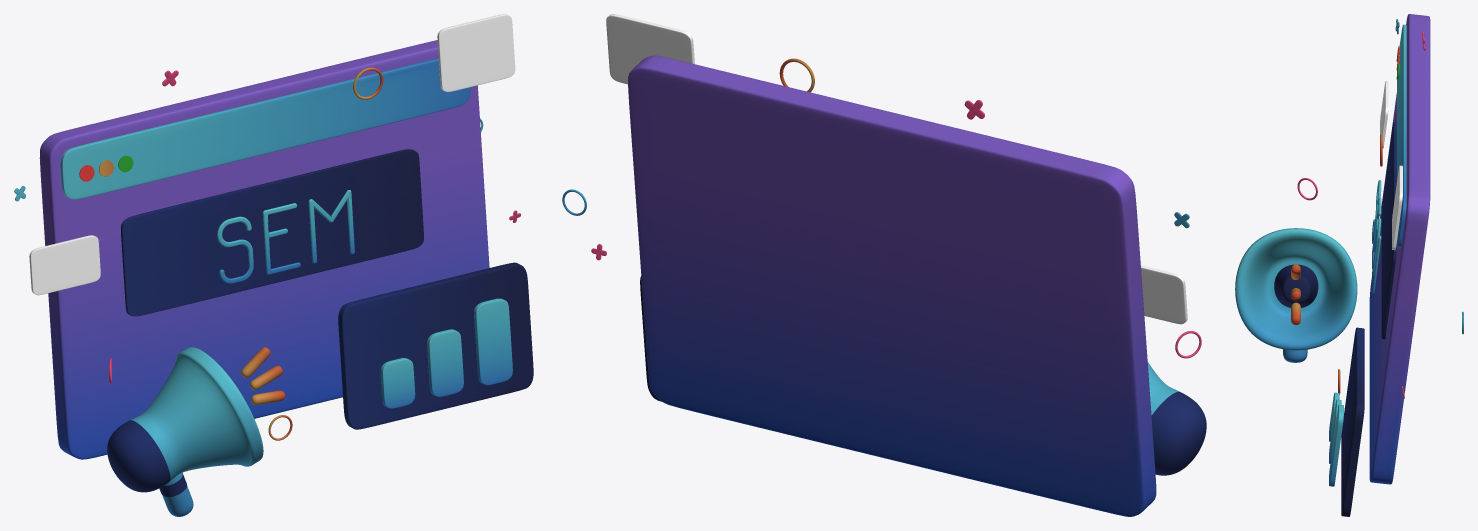
The model's file is sem-3d-animated-icon-81925645744.glb.
3 views of the same model, side by side, from view 1: azimuth 30°, elevation 25°; view 2: azimuth 150°, elevation 25°; view 3: azimuth 270°, elevation 25° (orthographic). The views are drawn at different scales.
Visible parts, largest first — view 1: Cube, Cube.002, Cube.001, Chart Bar Frame, Cube.015, Cube.005, Cube.006, Chart Bar 3, Chart Bar 2, Chart Bar 1, Curve.007, Curve.009 (+1 smaller); view 2: Cube, Cube.015, Cube.005, Cube.006; view 3: Cube, Cube.015, Chart Bar Frame, Cube.002, Cube.001, Chart Bar 3, Cube.005, Cube.006, Curve.007.
Boxes of the visible parts, x1,y1,x2,y2 form: Cube: (39,40,489,459); Cube.002: (121,149,423,316); Cube.001: (60,58,470,199); Chart Bar Frame: (338,262,533,429); Cube.015: (107,347,263,516); Cube.005: (437,14,515,91); Cube.006: (29,235,100,295); Chart Bar 3: (474,298,512,385); Chart Bar 2: (427,329,463,396); Chart Bar 1: (380,358,415,408); Curve.007: (308,190,354,263); Curve.009: (217,216,253,283); Cube: (628,55,1156,516); Cube.015: (1147,362,1206,475); Cube.005: (606,14,694,84); Cube.006: (1141,265,1187,324); Cube: (1369,14,1430,484); Cube.015: (1235,228,1357,362); Chart Bar Frame: (1341,327,1364,516); Cube.002: (1381,122,1396,339); Cube.001: (1397,24,1406,247); Chart Bar 3: (1329,404,1343,486); Cube.005: (1392,165,1402,250); Cube.006: (1380,81,1388,148); Curve.007: (1372,218,1381,293).
Bounding box in the file's own units: 6.5 × 4.63 × 2.69.
14 materials, 8 textured.
